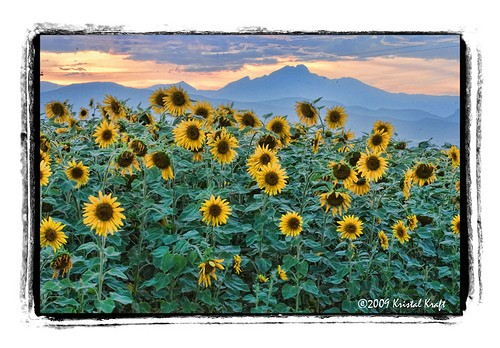flower: (82, 190, 126, 236), (355, 145, 389, 184), (252, 162, 289, 195), (207, 131, 239, 168), (173, 117, 206, 151), (199, 193, 232, 227), (61, 158, 93, 190), (40, 216, 68, 252), (163, 86, 194, 117), (91, 117, 118, 150), (334, 213, 364, 240), (278, 209, 304, 237), (264, 113, 293, 138), (321, 104, 348, 129), (391, 219, 411, 248)
